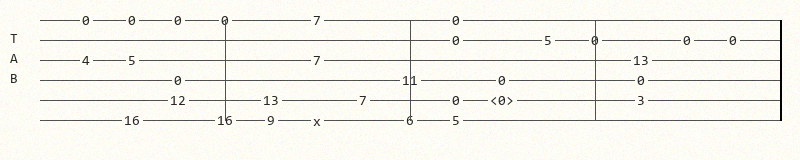0: (82, 14, 94, 27), (128, 14, 140, 27), (174, 74, 186, 87), (174, 14, 186, 27), (221, 14, 233, 27), (452, 14, 464, 27), (452, 94, 464, 107), (452, 34, 464, 47), (498, 74, 510, 87), (591, 34, 603, 47), (637, 74, 649, 87), (683, 34, 695, 47), (729, 34, 741, 47)
11: (402, 74, 422, 87)
12: (170, 94, 190, 107)
13: (263, 94, 283, 107), (633, 54, 653, 67)
16: (124, 114, 144, 127), (217, 114, 237, 127)
3: (637, 94, 649, 107)
4: (82, 54, 94, 67)
5: (128, 54, 140, 67), (452, 114, 464, 127), (544, 34, 556, 47)
6: (406, 114, 418, 127)
7: (313, 14, 325, 27), (313, 54, 325, 67), (359, 94, 371, 107)
9: (267, 114, 279, 127)
harmonic: (490, 94, 518, 107)
x: (313, 115, 325, 126)
